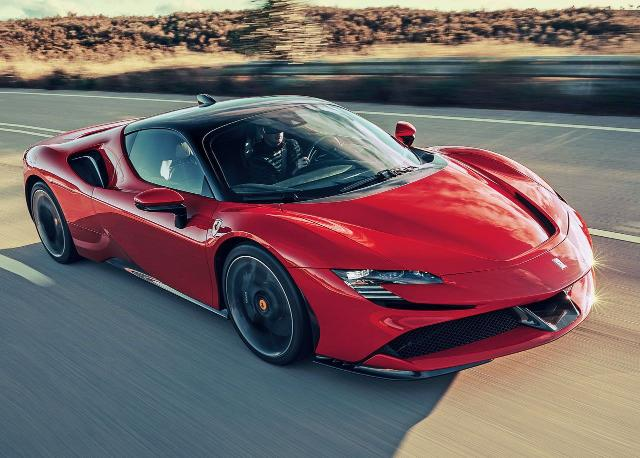ferrari: (22, 94, 598, 382)
